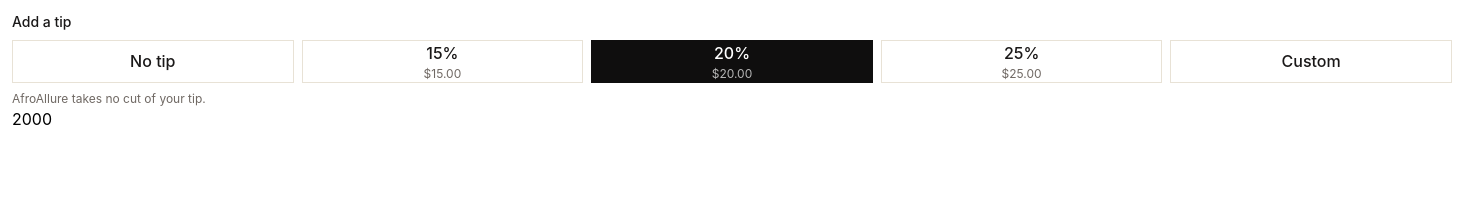
TipPicker › starts the custom field from the current tip
Click the button "Custom": [1311, 61] box [1170,40,1452,83]
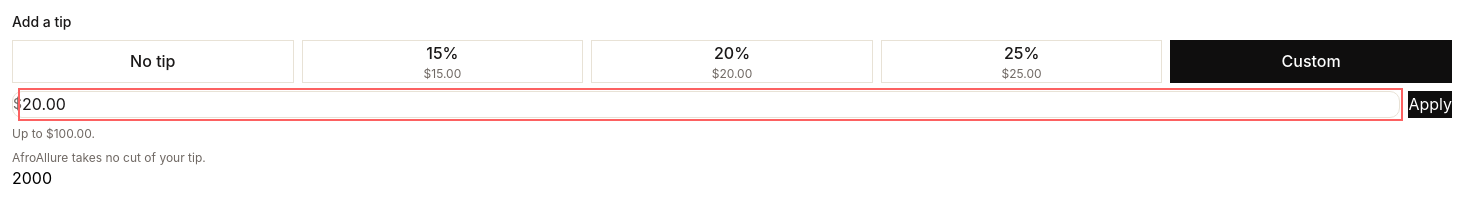
Expected: the field named "Custom tip in dollars" holds "20.00", [22,92,1399,117]
